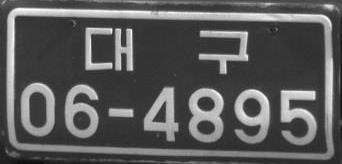0: (19, 80, 55, 136)
4: (143, 84, 178, 142)
5: (280, 88, 317, 146)
6: (64, 83, 99, 139)
8: (188, 87, 224, 142)
9: (233, 87, 270, 143)
대구_D: (85, 24, 248, 74)
